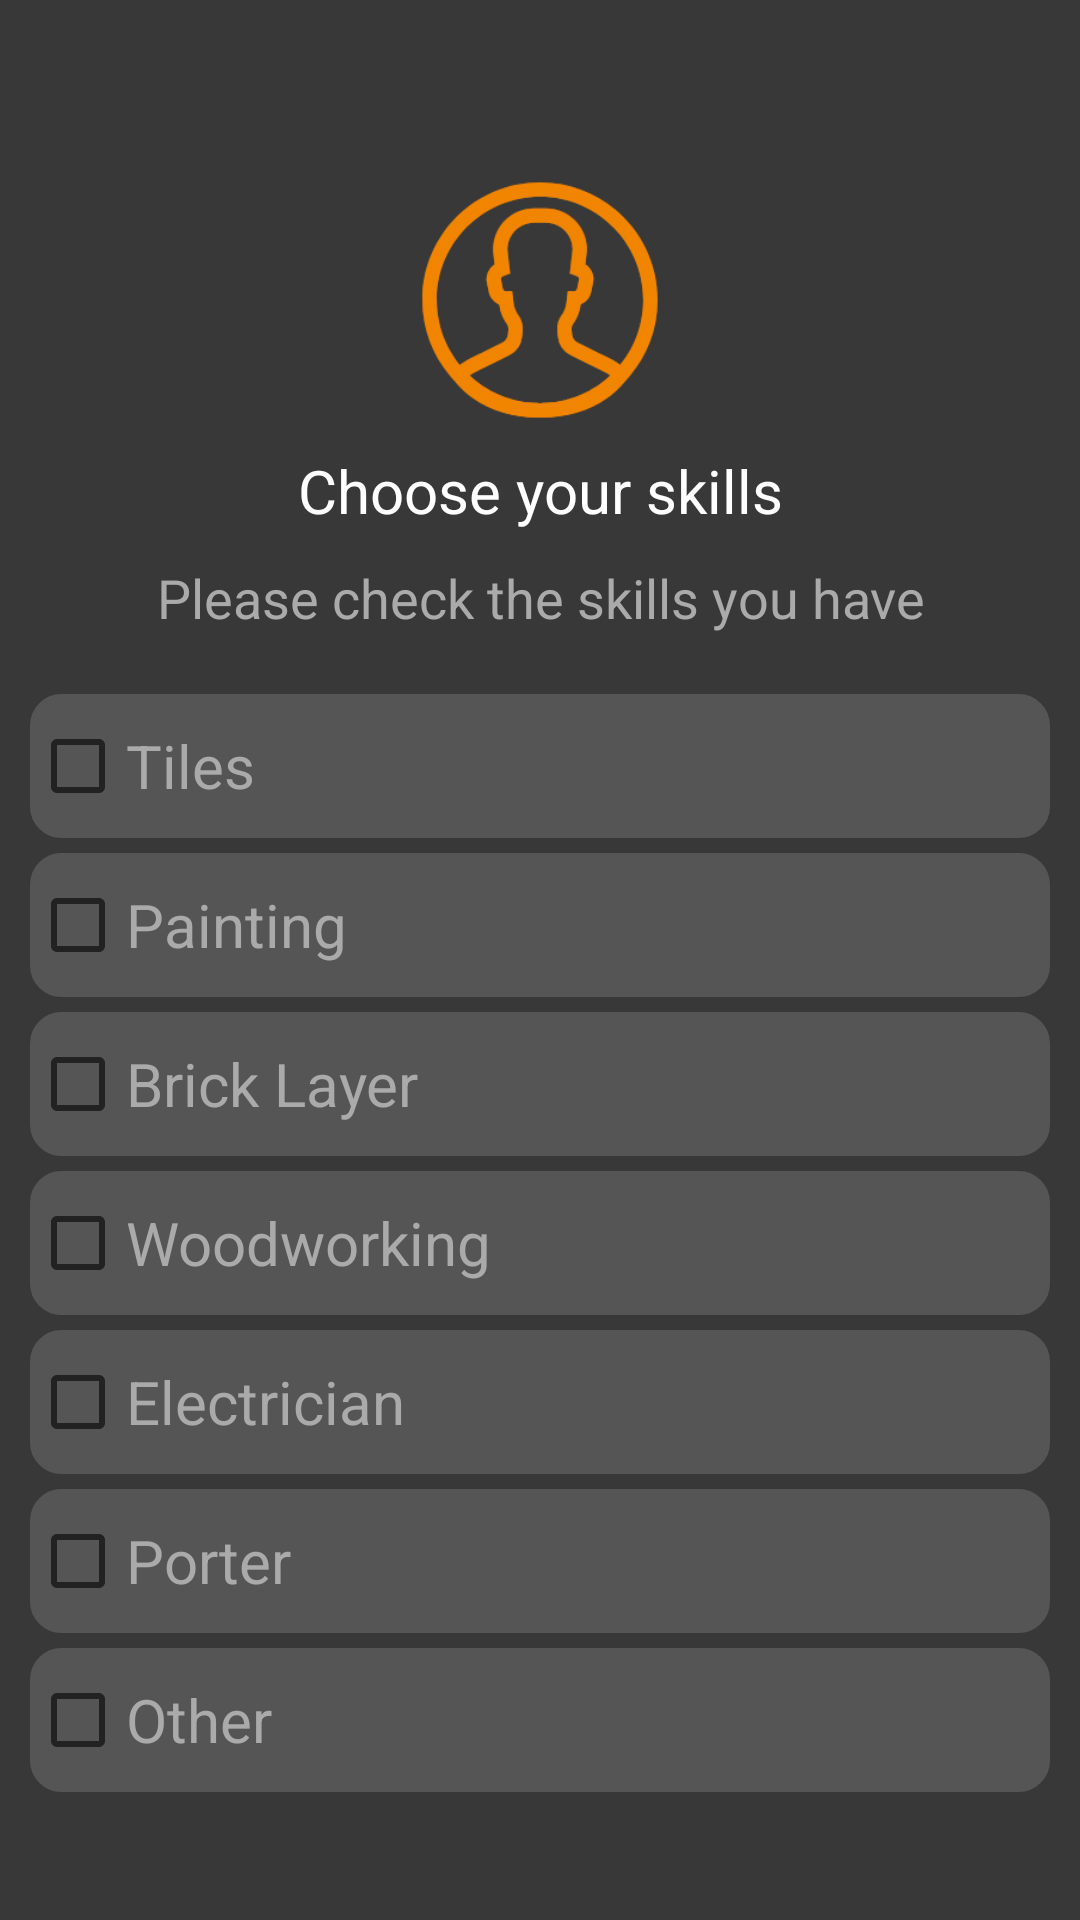

Locate icon controls on the screen. Image size 1080×1920, boxes as box=[x1, y1, x2, y2].
user: box=[422, 182, 658, 418]
